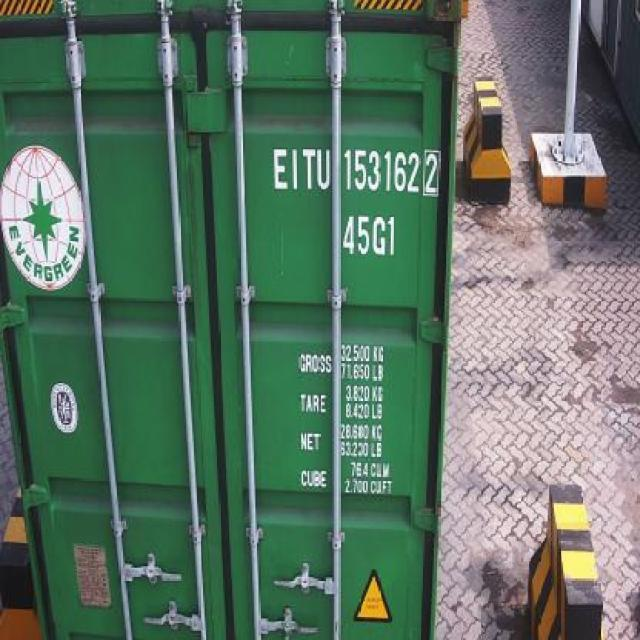ISO: (342, 218, 395, 254)
container_number: (274, 148, 438, 193)
